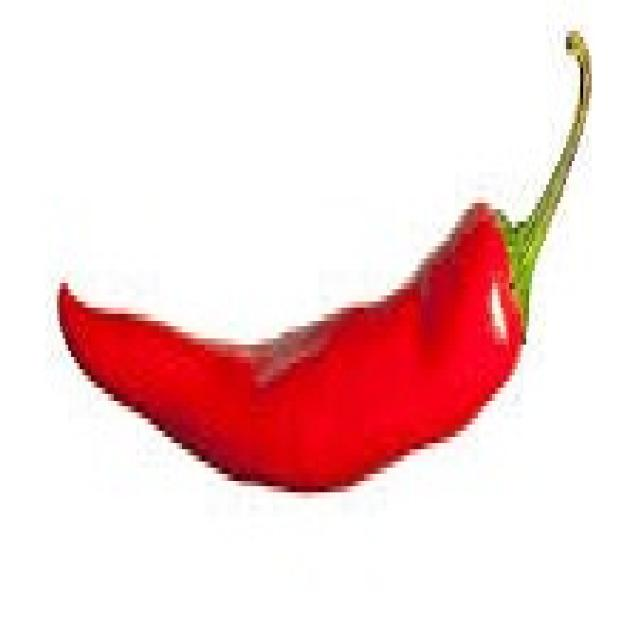red chili: (51, 19, 589, 486)
